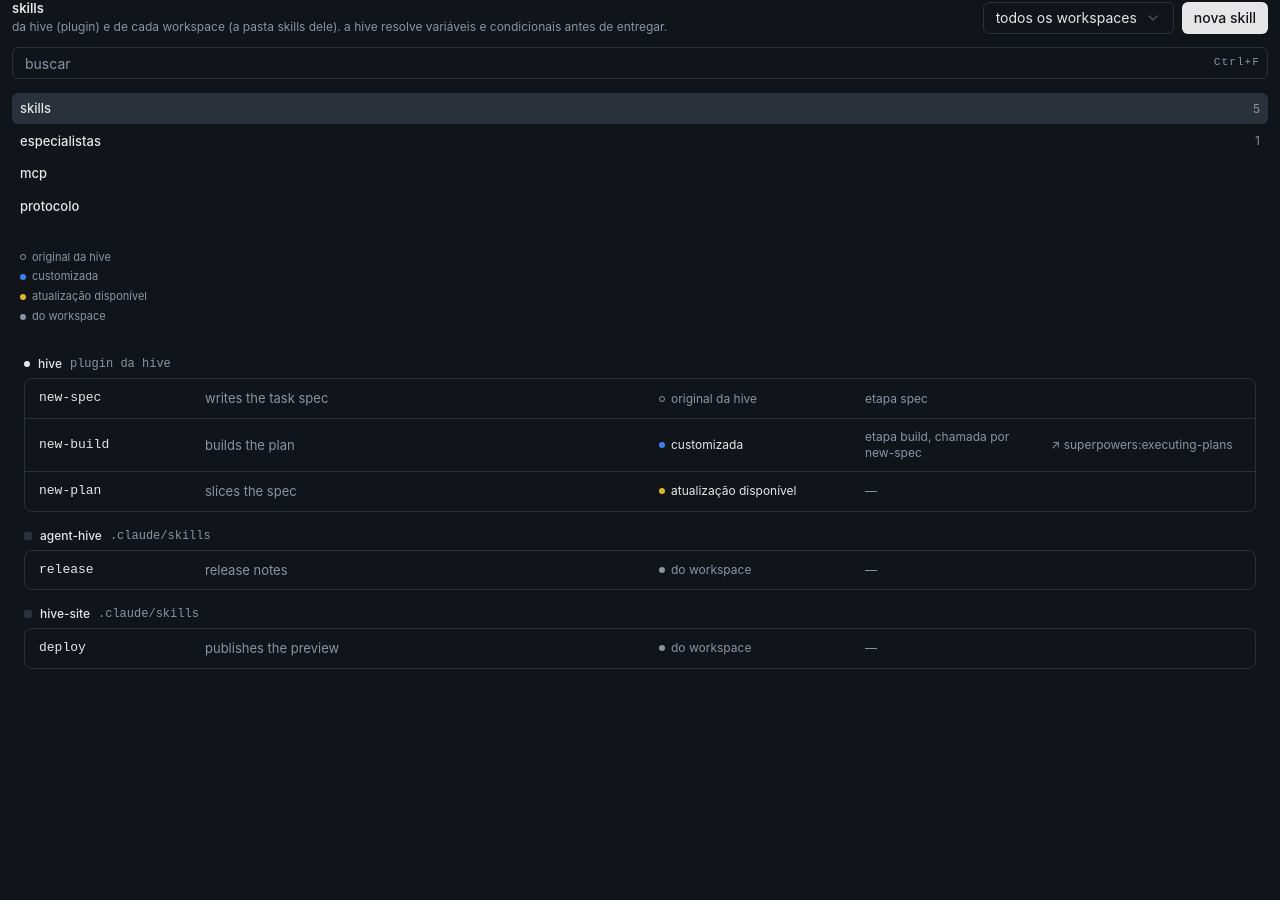
the mcp head has its meta and a + servidor that opens the screen's form (#334)
Click the button "mcp". click: (34,173)
box: [12,158,1268,189]
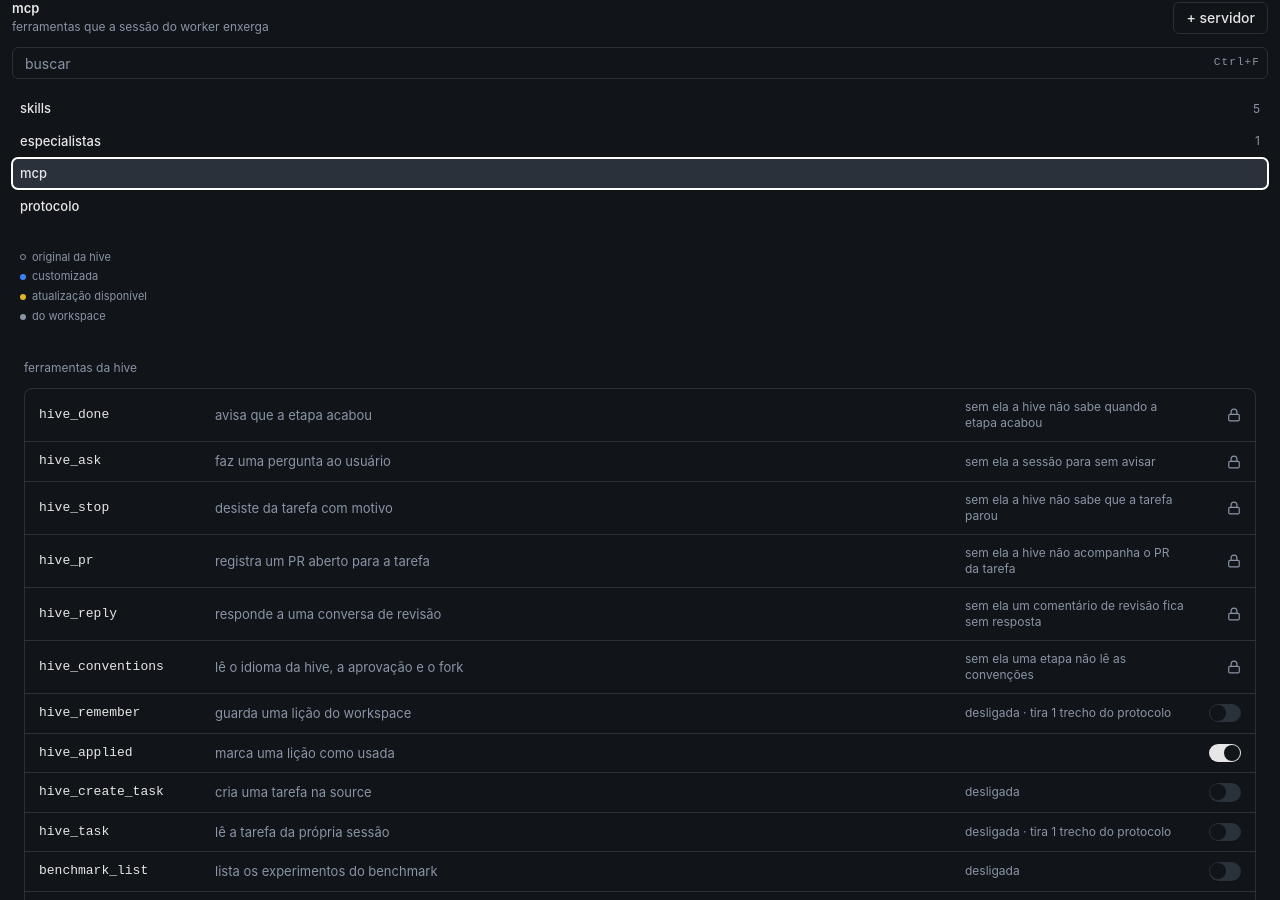
Click the button "+ servidor". click: (1221,18)
box: [1173,2,1268,34]
(page scrolled)
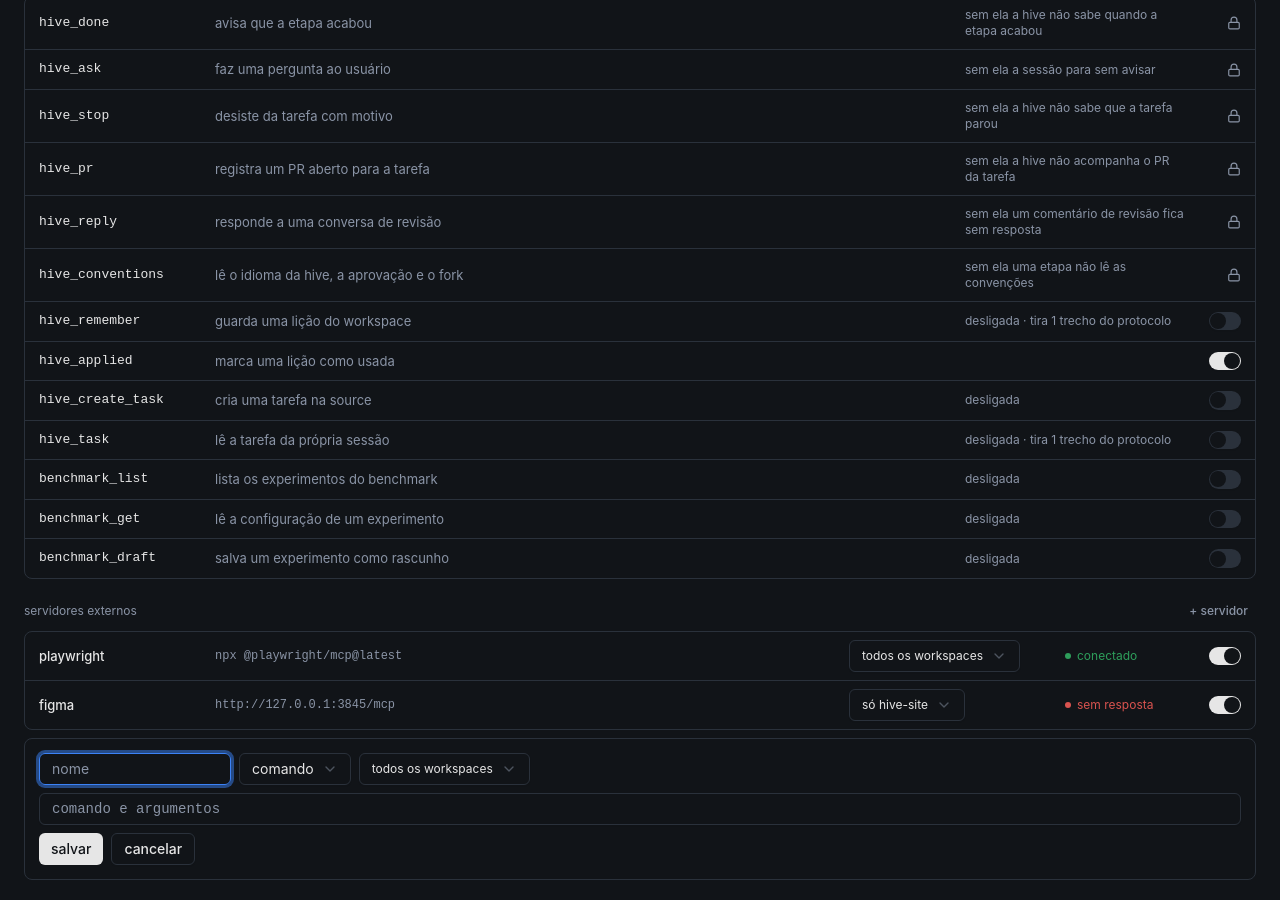
Expected: the form named "novo servidor" is shown, [24,738,1256,880]
